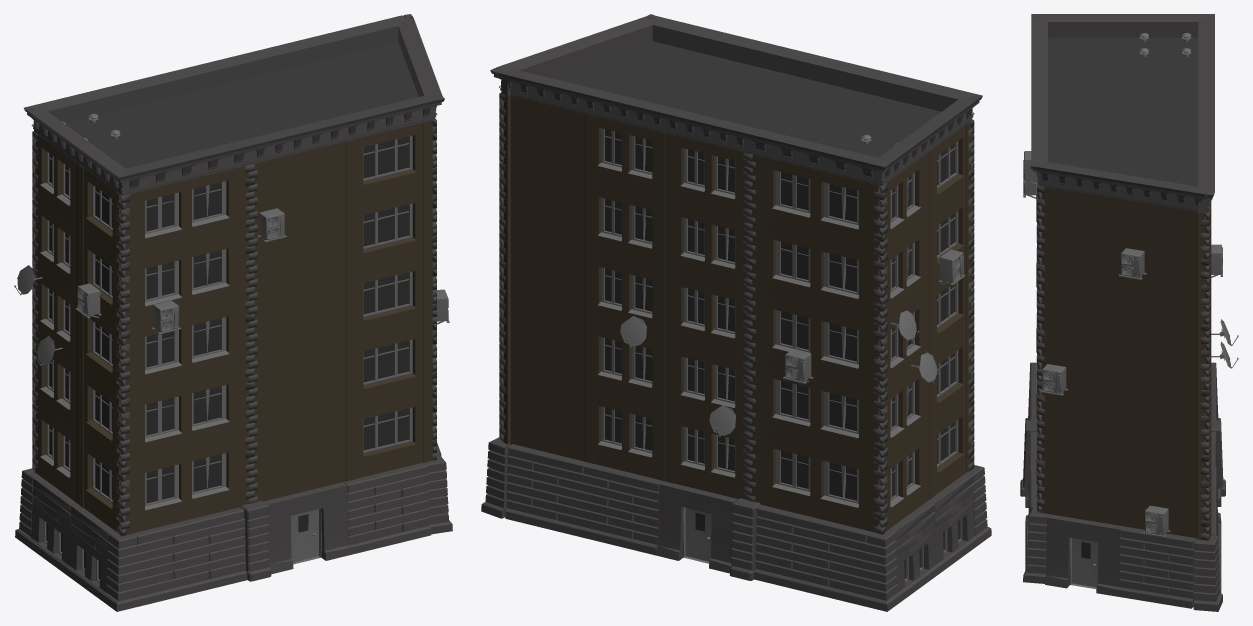
3 views of the same model, side by side, from view 1: azimuth 30°, elevation 25°; view 2: azimuth 150°, elevation 25°; view 3: azimuth 270°, elevation 25° (orthographic). The views are drawn at different scales.
Parts seen in each view (by area): view 1: Plane.001, middle_floor_wall_02.109, middle_floor_wall_02.106, middle_floor_wall_02.105, ground_floor_wall_02.027, middle_floor_wall_02.107, middle_floor_wall_02.108, middle_floor_wall_03.017, middle_floor_wall_03.015, middle_floor_wall_03.016, middle_floor_wall_03.014, middle_floor_wall_03.013 (+47 smaller); view 2: Plane.001, middle_floor_wall_02.104, middle_floor_wall_02.103, middle_floor_wall_02.100, ground_floor_wall_02.026, middle_floor_wall_02.101, middle_floor_wall_02.102, ground_floor_wall_02.024, ground_floor_wall_02.023, middle_floor_wall_02.093, middle_floor_wall_02.091, middle_floor_wall_02.085 (+52 smaller); view 3: Plane.001, ground_floor_wall_02.025, middle_floor_wall_01.035, middle_floor_wall_01.041, middle_floor_wall_01.043, ground_floor_wall_01.009, middle_floor_wall_01.038, middle_floor_wall_01.040, middle_floor_wall_01.037, middle_floor_wall_01.039, middle_floor_wall_01.042, middle_floor_wall_01.044 (+43 smaller).
Boxes of the visible parts, x1,y1,x2,y2 form: Plane.001: (66, 42, 418, 168); middle_floor_wall_02.109: (123, 164, 250, 263); middle_floor_wall_02.106: (125, 370, 248, 467); middle_floor_wall_02.105: (125, 438, 248, 535); ground_floor_wall_02.027: (133, 507, 247, 606); middle_floor_wall_02.107: (125, 302, 248, 399); middle_floor_wall_02.108: (125, 234, 248, 331); middle_floor_wall_03.017: (343, 119, 434, 209); middle_floor_wall_03.015: (343, 256, 432, 345); middle_floor_wall_03.016: (343, 188, 432, 277); middle_floor_wall_03.014: (343, 324, 432, 413); middle_floor_wall_03.013: (343, 392, 432, 481); Plane.001: (547, 41, 941, 157); middle_floor_wall_02.104: (750, 154, 878, 253); middle_floor_wall_02.103: (752, 224, 878, 323); middle_floor_wall_02.100: (752, 433, 878, 532); ground_floor_wall_02.026: (754, 505, 870, 606); middle_floor_wall_02.101: (752, 364, 878, 462); middle_floor_wall_02.102: (752, 294, 878, 392); ground_floor_wall_02.024: (580, 462, 662, 555); ground_floor_wall_02.023: (505, 444, 586, 536); middle_floor_wall_02.093: (584, 113, 666, 202); middle_floor_wall_02.091: (584, 183, 666, 272); middle_floor_wall_02.085: (584, 392, 666, 481); Plane.001: (1048, 37, 1198, 186); ground_floor_wall_02.025: (1118, 526, 1197, 608); middle_floor_wall_01.035: (1041, 447, 1122, 526); middle_floor_wall_01.041: (1041, 252, 1122, 329); middle_floor_wall_01.043: (1041, 186, 1122, 264); ground_floor_wall_01.009: (1045, 514, 1122, 596); middle_floor_wall_01.038: (1123, 395, 1211, 472); middle_floor_wall_01.040: (1123, 330, 1211, 407); middle_floor_wall_01.037: (1041, 386, 1122, 460); middle_floor_wall_01.039: (1041, 317, 1122, 395); middle_floor_wall_01.042: (1123, 268, 1211, 342); middle_floor_wall_01.044: (1123, 199, 1211, 276).
Size of the model in its own units: 1929 by 1918 by 917.
